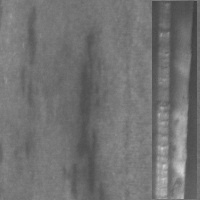inclusion: (65, 29, 104, 199), (21, 4, 44, 68), (16, 64, 38, 111)
scratches: (152, 1, 197, 199)
